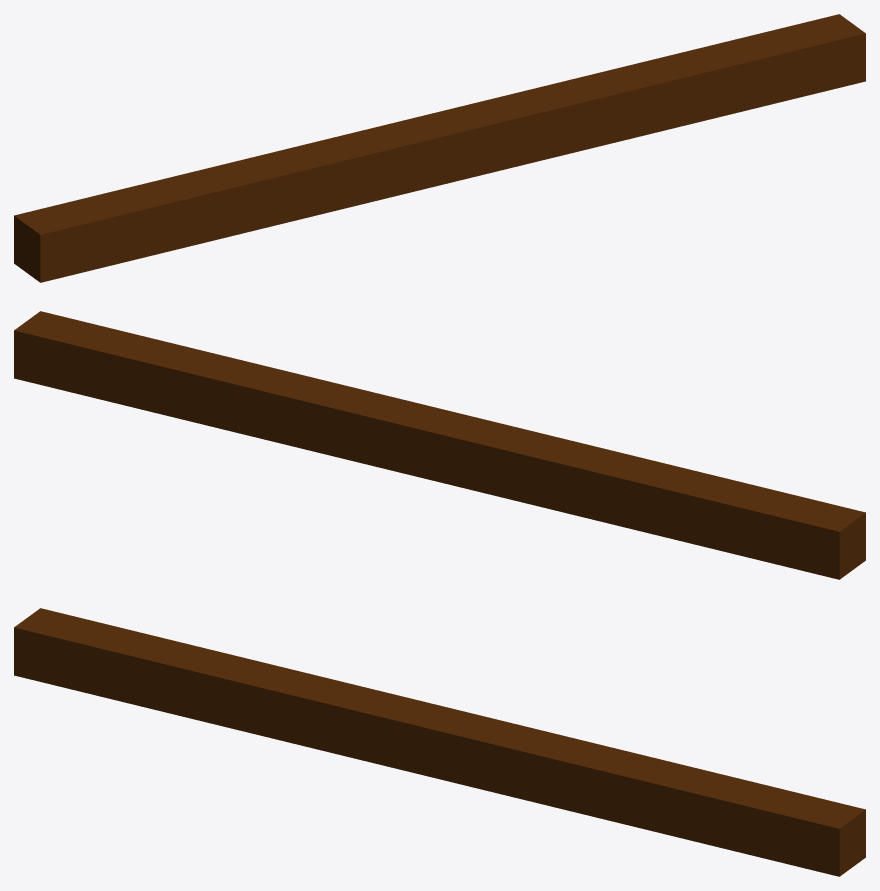
Rendered from borde1A.obj.
3 renders of one model, top to bottom at view 1: azimuth 30°, elevation 25°; view 2: azimuth 150°, elevation 25°; view 3: azimuth 330°, elevation 25°, orthographic.
Parts seen in each view (by area): view 1: Pillar.028; view 2: Pillar.028; view 3: Pillar.028.
Part boxes in pixels (x1=…): Pillar.028: x1=14, y1=14, x2=865, y2=282; Pillar.028: x1=14, y1=311, x2=865, y2=579; Pillar.028: x1=14, y1=608, x2=865, y2=876.
Bounding box in the file's own units: 18 × 1 × 1.
4 materials, 4 textured.
